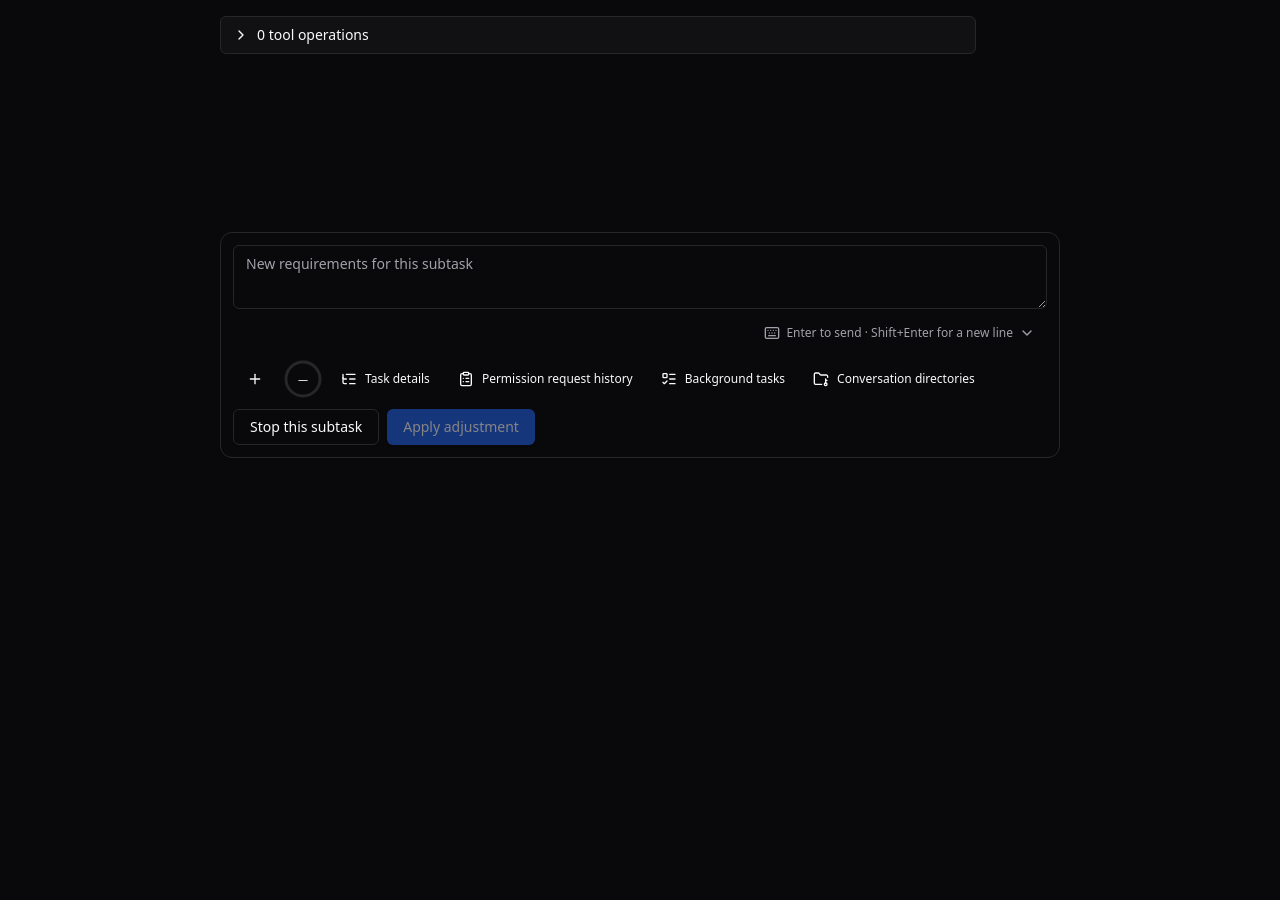
conversation tabs › opens shared child details and context on demand without putting them in the transcript
The image size is (1280, 900).
Expected: the text "Read original evidence" is not shown
Click the button "Task details".
click(385, 379)  # box [329,357,442,401]
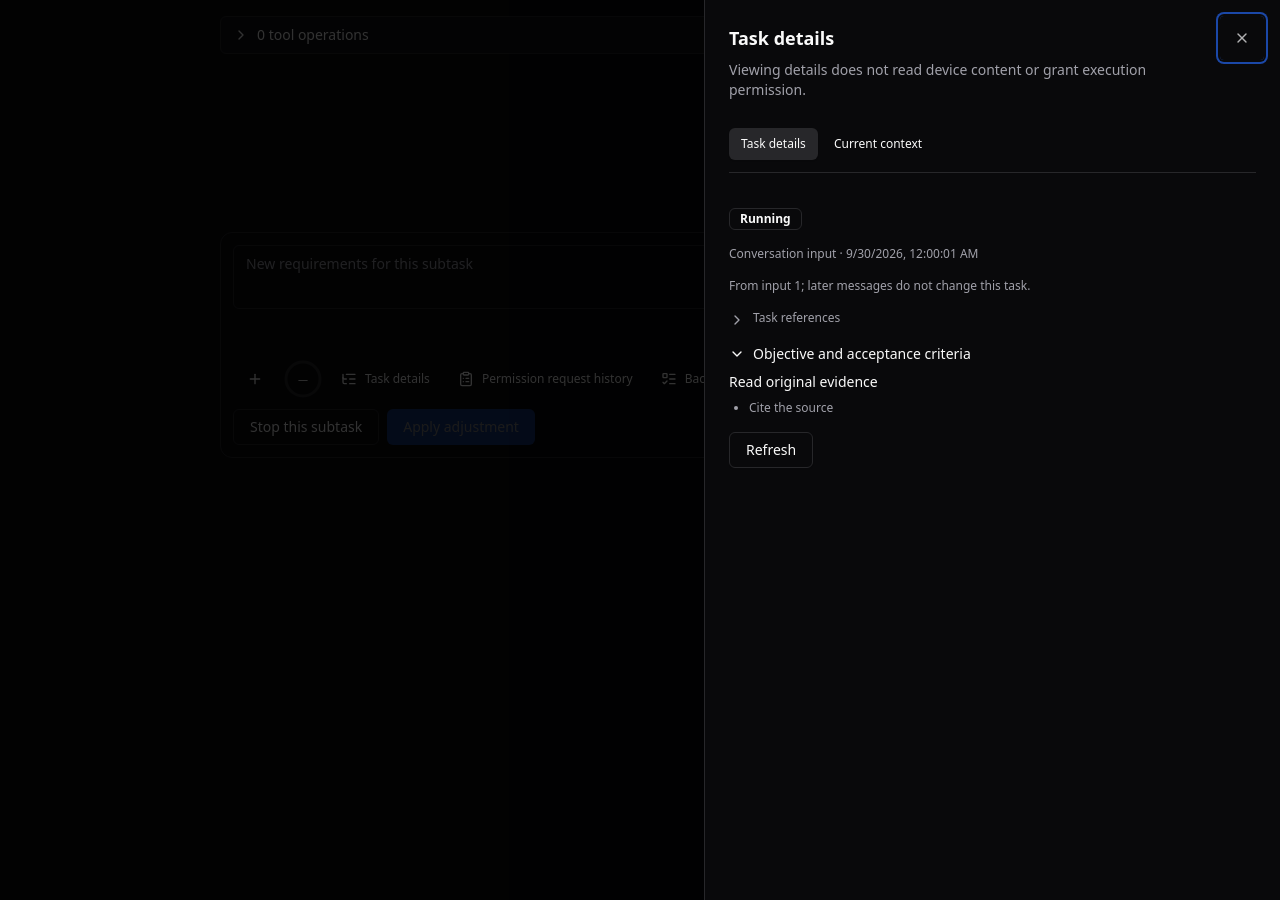
Expected: the element with test id "assistant-shared-transcript" does not show "Read original evidence", [220,16,976,54]
Expected: the dialog shows "Read original evidence", [729,372,878,391]
Click the button "Current context".
click(878, 144)  # box [822,128,934,160]
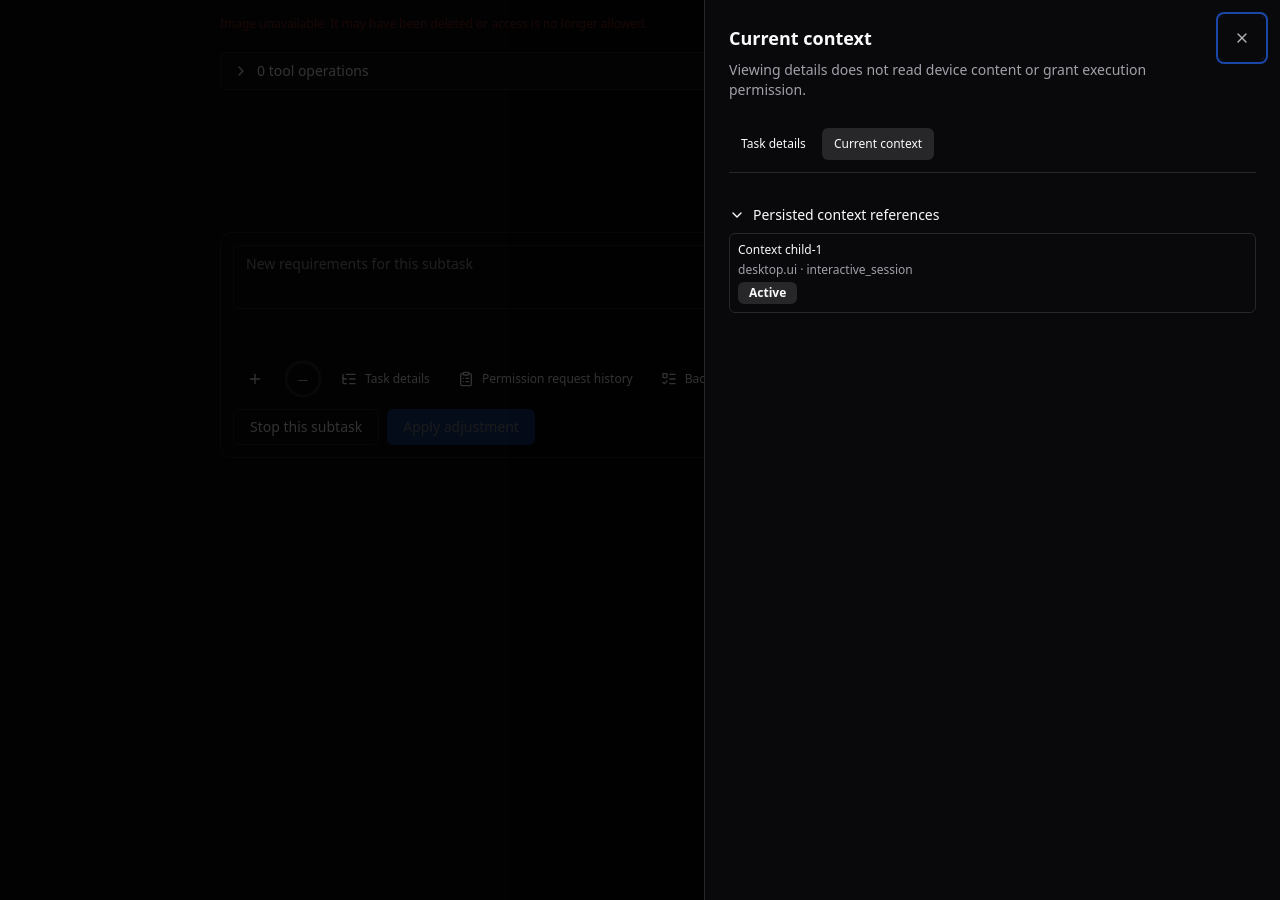
Expected: the dialog shows "Context child-1", [738,241,822,258]
